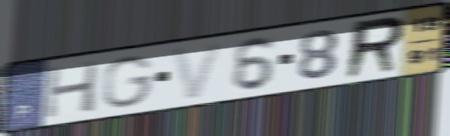6: (231, 34, 277, 93)
8: (298, 29, 341, 82)
G: (101, 54, 157, 110)
H: (42, 58, 102, 120)
R: (342, 14, 410, 82)
V: (170, 39, 227, 102)
